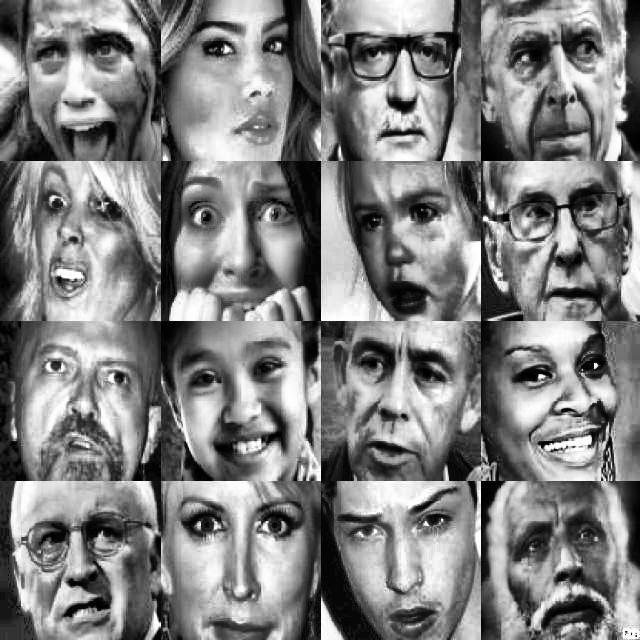angry: (5, 345, 161, 477), (28, 513, 137, 630)
fear: (0, 7, 158, 155), (6, 162, 149, 306), (169, 169, 306, 307), (329, 191, 475, 313)
happy: (495, 343, 627, 469), (182, 335, 313, 459)
neutral: (486, 6, 637, 152), (332, 8, 476, 154), (179, 495, 305, 639), (495, 179, 635, 308), (336, 497, 460, 640), (184, 12, 302, 155), (345, 340, 459, 464)
sad: (512, 507, 639, 640)
